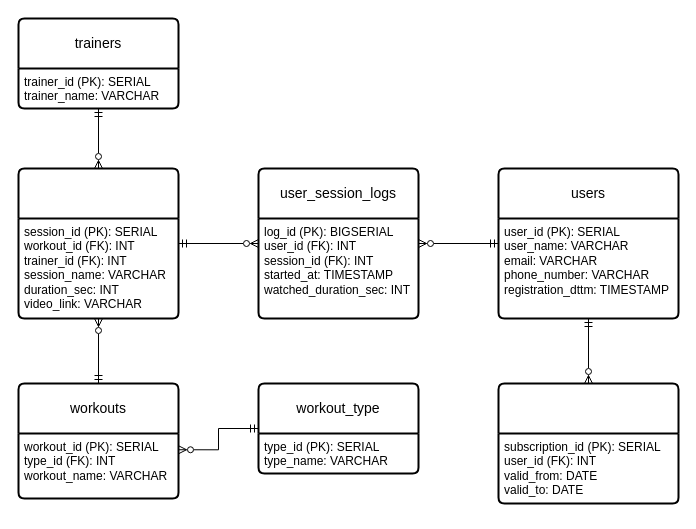
Image size: 696x529. Some labels were removed from this diagram. The shapes that lost their labels are listed below. From the top down, each one's box as (x1, y1, x2, y2) in pixels, then its label:
(17, 167, 179, 319): workout_session
(497, 382, 679, 504): subscriptions
